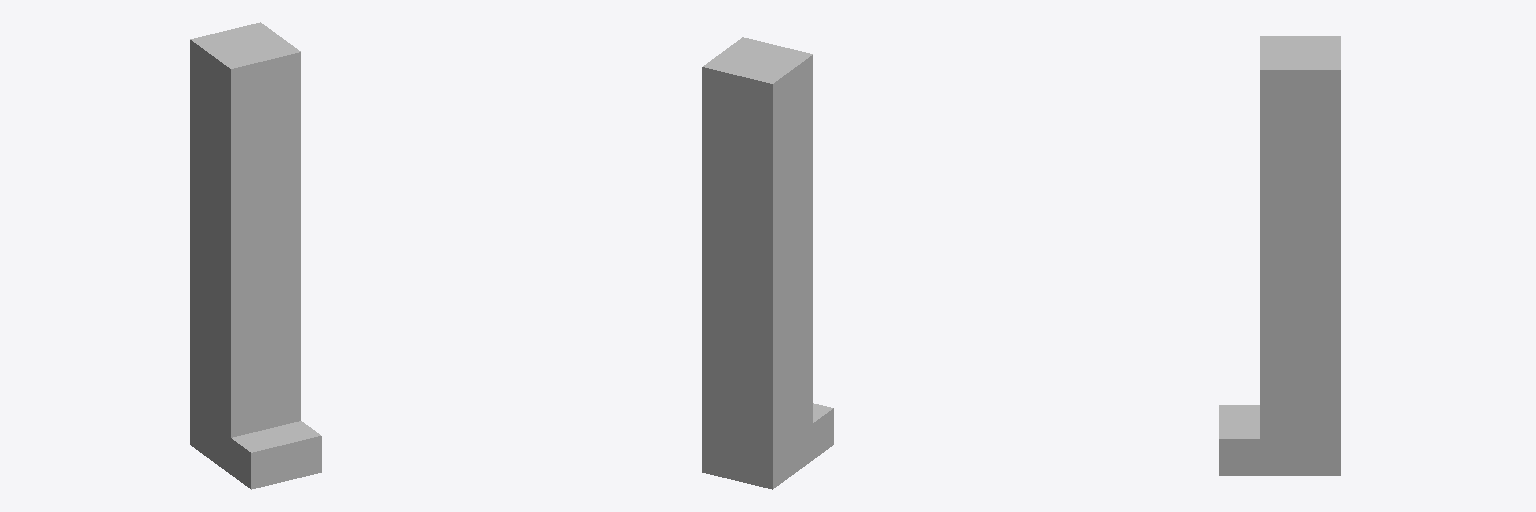
File: shinL.obj
The picture shows the model from 3 angles: view 1: azimuth 30°, elevation 25°; view 2: azimuth 150°, elevation 25°; view 3: azimuth 270°, elevation 25°; orthographic projection.
Parts seen in each view (by area): view 1: shinL; view 2: shinL; view 3: shinL.
Part boxes in pixels (bbox=[...]): shinL: bbox=[190, 22, 321, 489]; shinL: bbox=[702, 37, 833, 489]; shinL: bbox=[1219, 36, 1340, 475].
Size of the model in its own units: 0.2 by 1.1 by 0.3.